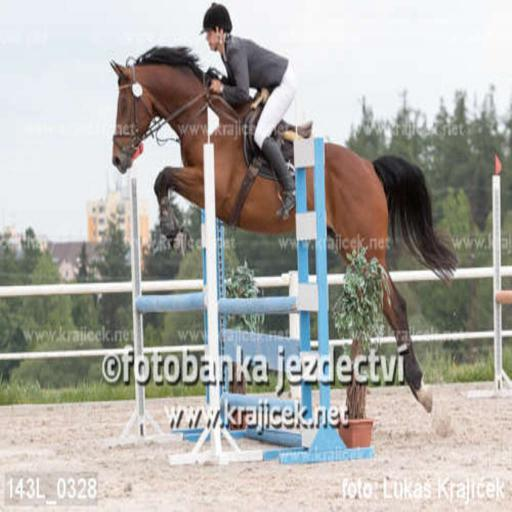Horse: (110, 43, 458, 415)
